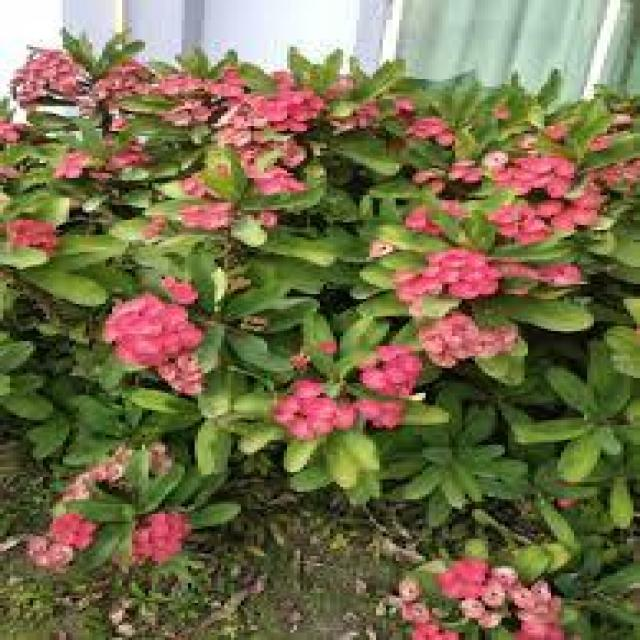organic waste: (100, 295, 210, 362), (204, 80, 304, 144), (391, 241, 493, 300), (412, 316, 544, 361)
